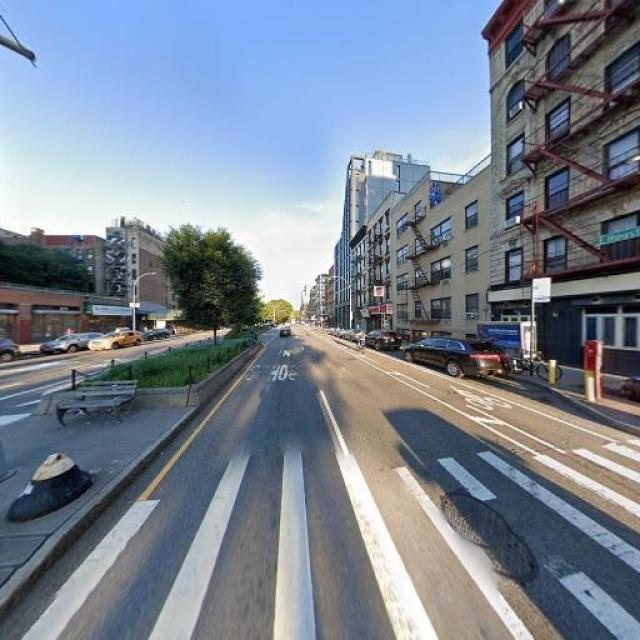Building: (485, 1, 640, 379), (392, 130, 481, 353), (1, 288, 127, 347), (368, 200, 389, 337), (353, 225, 365, 333)
